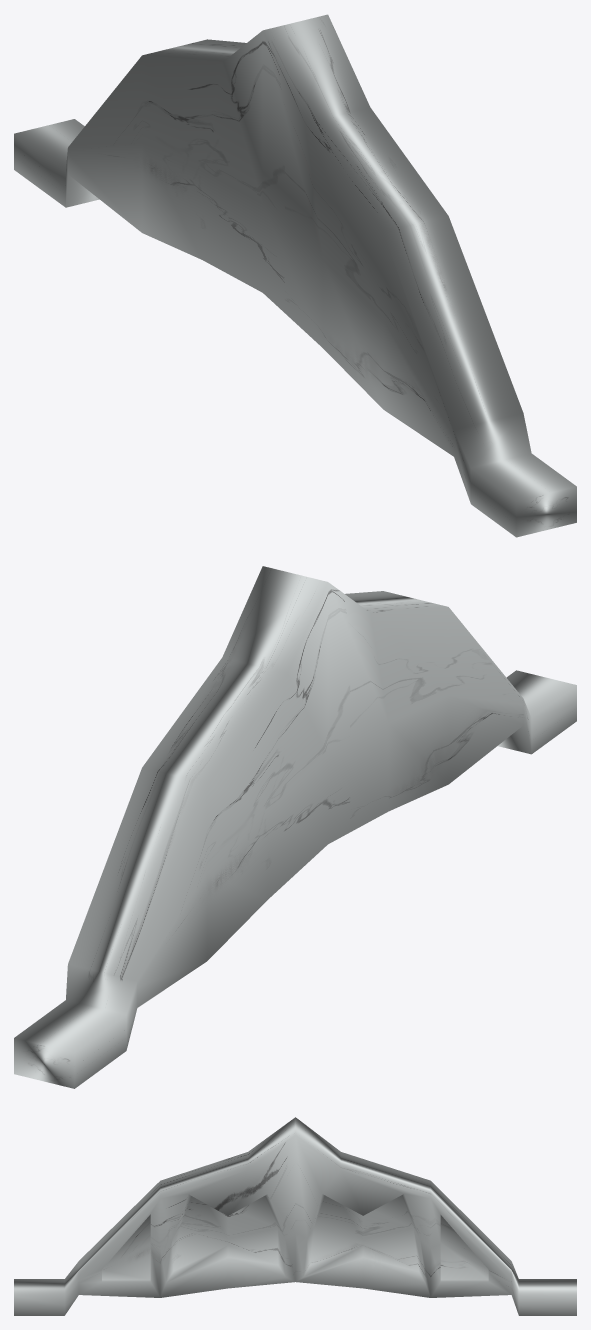
The model's file is łuk.fbx.
3 views of the same model, one above another, from view 1: azimuth 30°, elevation 25°; view 2: azimuth 150°, elevation 25°; view 3: azimuth 270°, elevation 25° (orthographic). The views are drawn at different scales.
Visible parts, largest first — view 1: Cube; view 2: Cube; view 3: Cube.
Boxes of the visible parts, x1,y1,x2,y2 form: Cube: [14, 14, 576, 537]; Cube: [14, 566, 576, 1088]; Cube: [14, 1117, 576, 1315].
Bounding box in the file's own units: 53.25 × 237 × 666.
Materials: 1 (1 with a texture image).
